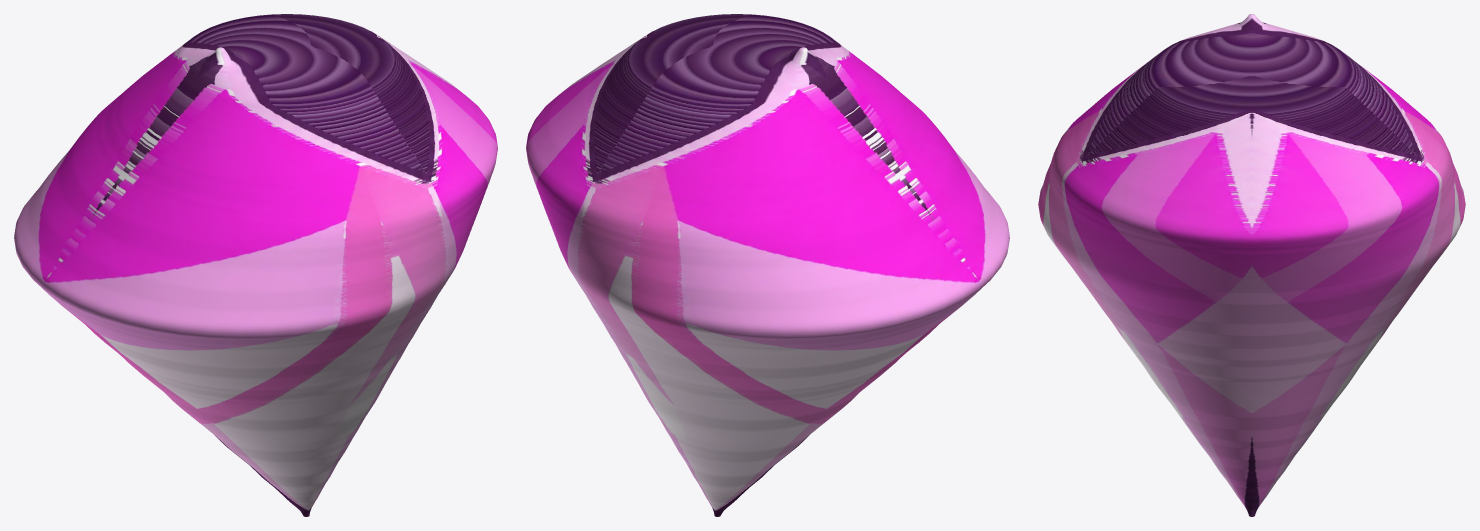
Rendered from pink_crystal.glb.
3 views of the same model, side by side, from view 1: azimuth 30°, elevation 25°; view 2: azimuth 150°, elevation 25°; view 3: azimuth 270°, elevation 25° (orthographic). The views are drawn at different scales.
Parts seen in each view (by area): view 1: pink_crystal; view 2: pink_crystal; view 3: pink_crystal.
Boxes of the visible parts, bbox=[...] form: pink_crystal: bbox=[14, 14, 497, 516]; pink_crystal: bbox=[526, 14, 1009, 516]; pink_crystal: bbox=[1038, 14, 1465, 516].
Size of the model in its own units: 0.9859 by 1.08 by 0.9064.
1 material, 1 textured.
